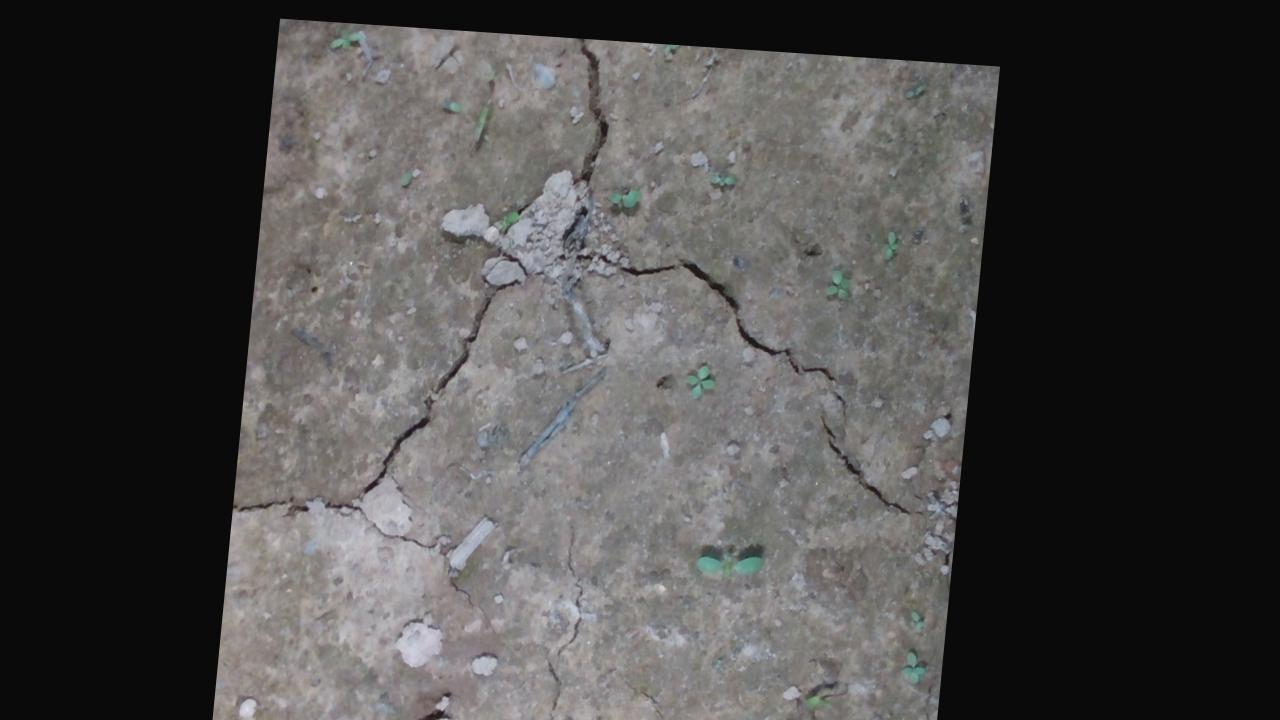weed: (704, 540, 774, 573), (689, 352, 724, 392), (828, 254, 859, 291), (328, 24, 361, 48), (610, 177, 643, 200), (883, 218, 903, 247), (710, 161, 739, 179)
